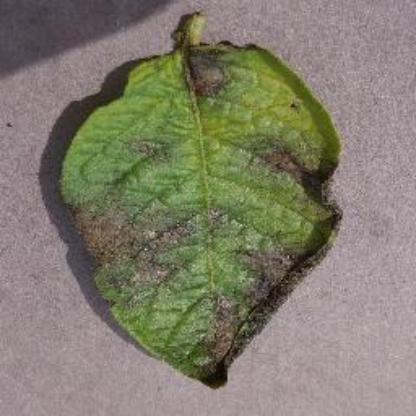Late-Blight: (19, 10, 399, 410)
